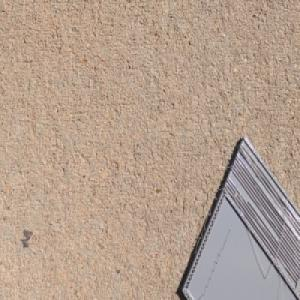PlasticPart: (179, 134, 300, 300)
